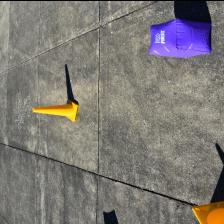cone: (32, 97, 80, 121), (192, 200, 224, 224)
cube: (148, 16, 212, 57)
